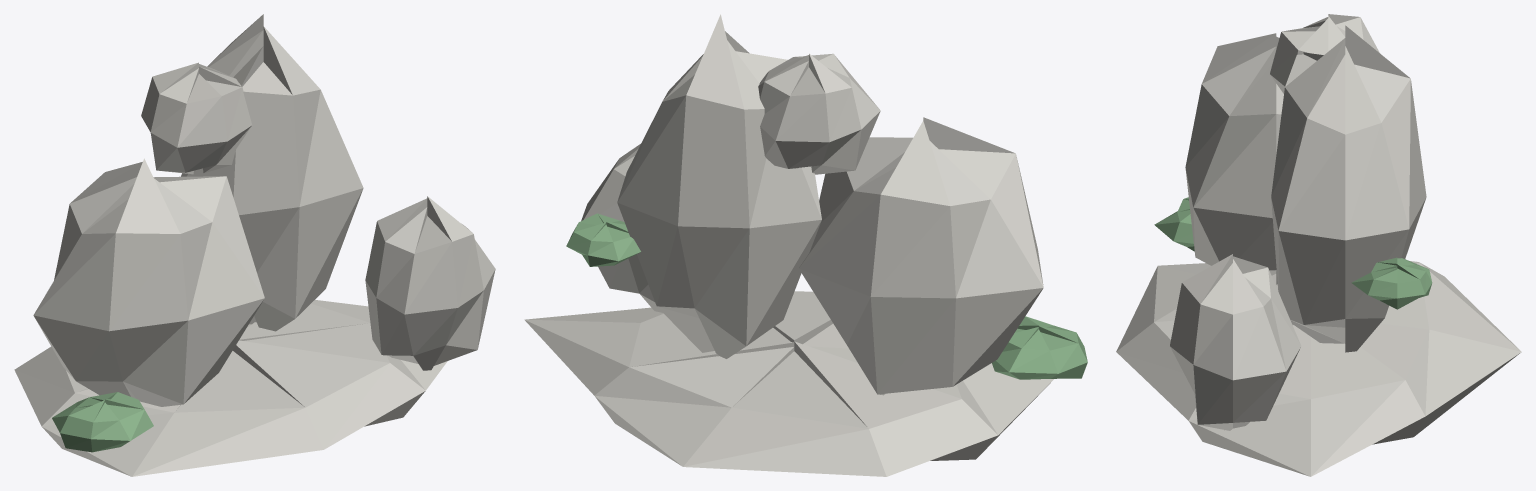
File: rockery.glb
3 views of the same model, side by side, from view 1: azimuth 30°, elevation 25°; view 2: azimuth 150°, elevation 25°; view 3: azimuth 270°, elevation 25° (orthographic). The views are drawn at different scales.
Parts seen in each view (by area): view 1: rockery-outcrop; view 2: rockery-outcrop; view 3: rockery-outcrop.
Boxes of the visible parts, bbox=[...] form: rockery-outcrop: bbox=[14, 14, 495, 476]; rockery-outcrop: bbox=[524, 14, 1087, 476]; rockery-outcrop: bbox=[1116, 14, 1521, 476].
Bounding box in the file's own units: 3.22 × 2.52 × 2.34.
